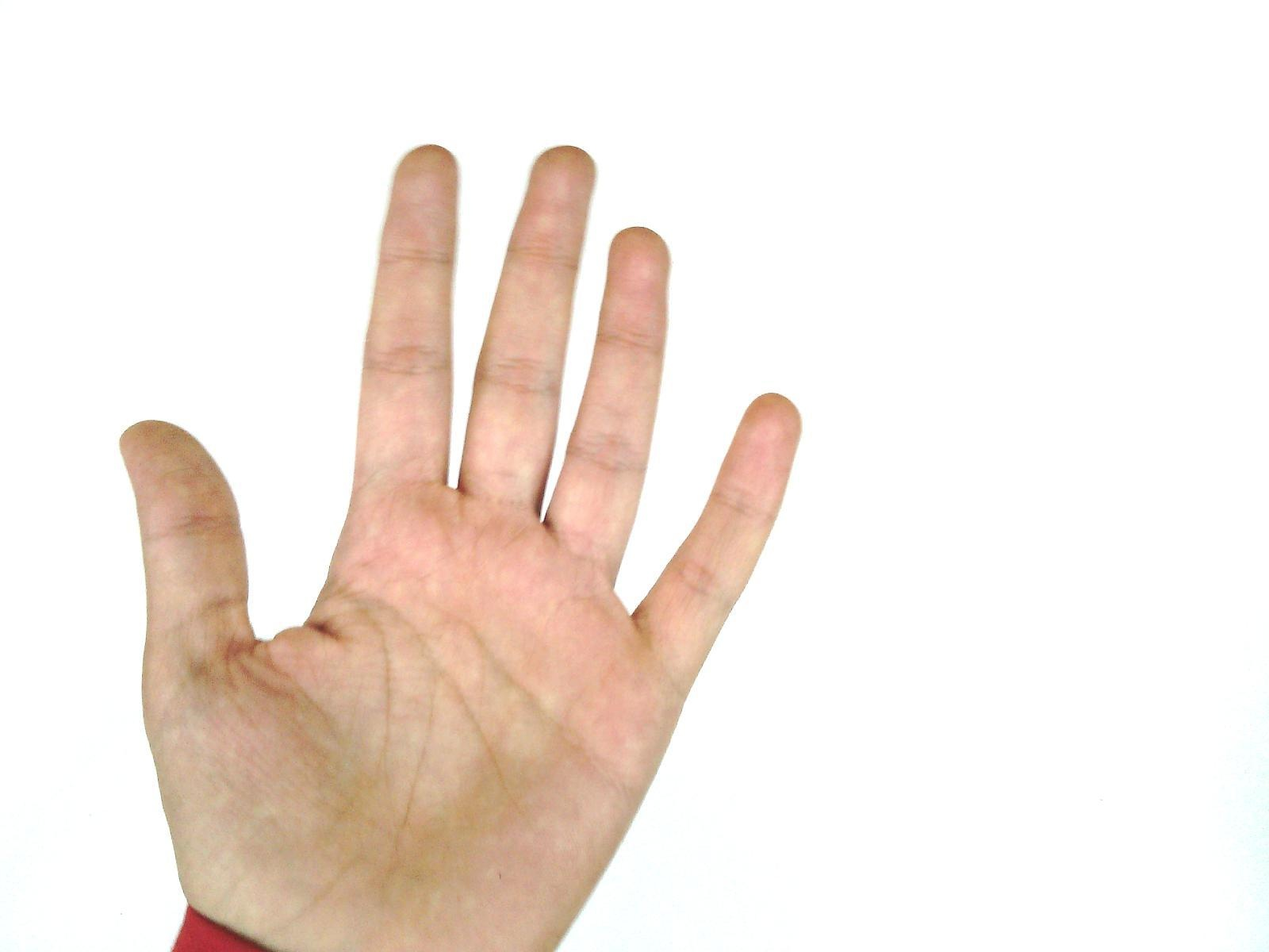open_palm: (117, 141, 805, 951)
